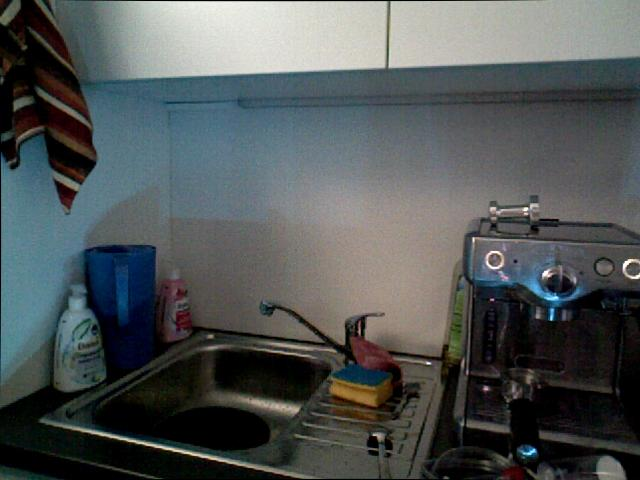bench: (47, 281, 110, 388), (445, 248, 472, 371), (156, 260, 196, 340)
couch: (48, 336, 340, 455)
handbag: (86, 242, 157, 358)
toilet: (361, 422, 405, 480), (393, 375, 420, 427)
